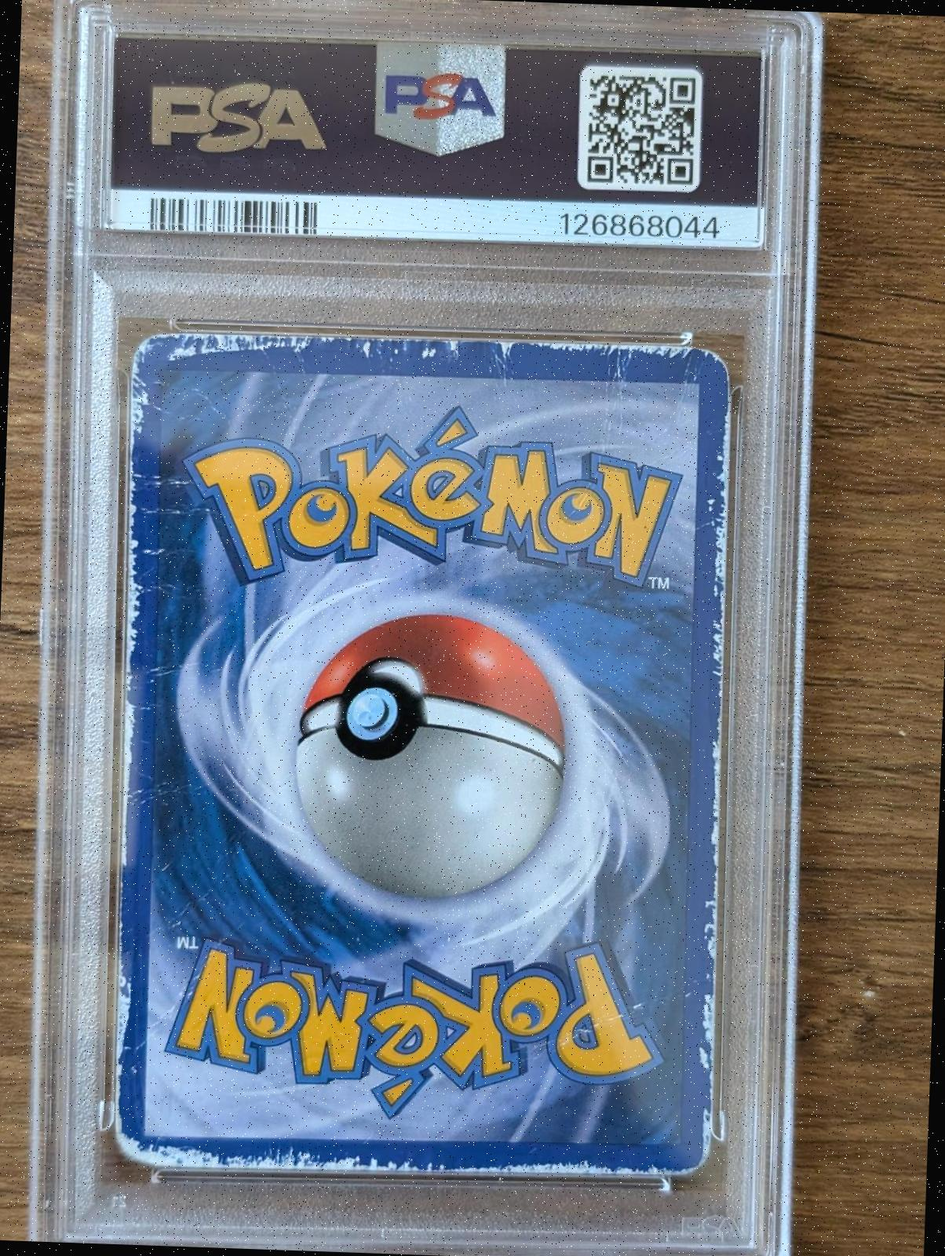card-2UtV: (113, 332, 730, 1176)
